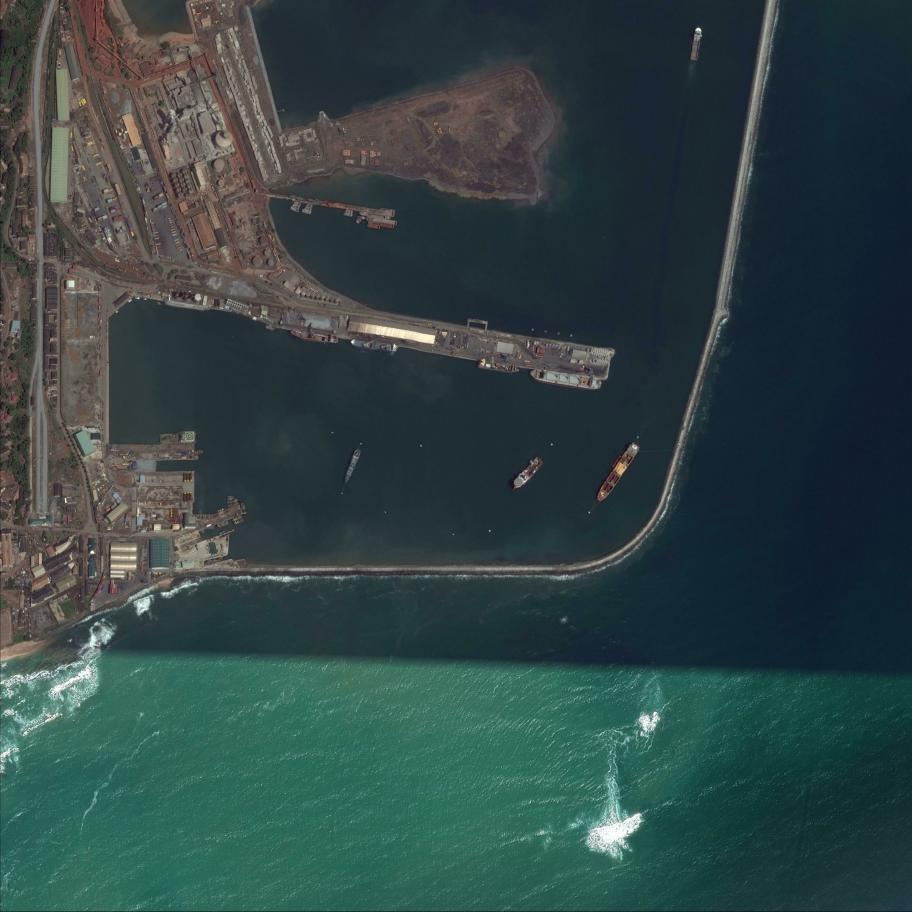ship: (593, 441, 642, 506), (529, 368, 603, 392), (509, 455, 545, 492), (348, 337, 398, 353), (289, 329, 339, 344), (476, 359, 521, 375), (343, 448, 362, 483), (690, 27, 703, 62), (160, 432, 196, 443), (358, 211, 391, 220), (366, 216, 397, 225), (227, 501, 240, 508), (240, 502, 247, 515), (217, 520, 228, 528), (231, 515, 243, 522), (233, 518, 245, 525), (381, 223, 394, 229), (289, 206, 300, 213), (227, 498, 239, 504), (301, 209, 312, 215), (367, 224, 380, 229), (368, 221, 381, 226), (216, 507, 226, 513), (343, 212, 353, 217), (294, 201, 302, 206), (345, 209, 353, 214), (304, 206, 312, 211), (292, 204, 300, 209), (357, 215, 366, 219), (306, 203, 313, 208), (218, 530, 225, 535), (227, 497, 235, 501), (115, 310, 121, 314), (128, 299, 133, 303), (135, 296, 140, 299), (227, 496, 234, 498), (143, 298, 147, 300)
storage-tank: (212, 130, 233, 150), (212, 160, 224, 172), (252, 256, 263, 266), (260, 236, 268, 246), (175, 290, 183, 299), (185, 292, 193, 301), (194, 294, 202, 302), (264, 249, 271, 257), (268, 259, 275, 266), (217, 180, 224, 187), (170, 173, 177, 179), (171, 178, 178, 184), (173, 182, 180, 188), (188, 188, 194, 195), (176, 193, 183, 199), (251, 218, 257, 224), (301, 290, 306, 297), (311, 292, 316, 299), (325, 295, 330, 302), (321, 293, 325, 301), (316, 292, 320, 300), (331, 295, 335, 303), (306, 291, 311, 297), (175, 188, 181, 193), (182, 169, 187, 174), (179, 177, 184, 182), (187, 183, 192, 188), (336, 297, 340, 303), (185, 179, 191, 183), (184, 174, 189, 178), (177, 173, 182, 177), (182, 188, 187, 192), (181, 182, 185, 187), (225, 301, 228, 305), (236, 304, 238, 307), (240, 306, 242, 309), (238, 306, 240, 309), (232, 303, 234, 306), (230, 302, 232, 305), (228, 302, 230, 305), (227, 299, 230, 301), (241, 304, 243, 306), (234, 304, 236, 306), (231, 300, 233, 302), (247, 306, 249, 308), (245, 305, 247, 307), (243, 305, 245, 307), (239, 303, 241, 305), (237, 302, 239, 304), (233, 301, 235, 303), (230, 299, 231, 301), (236, 301, 237, 303)
